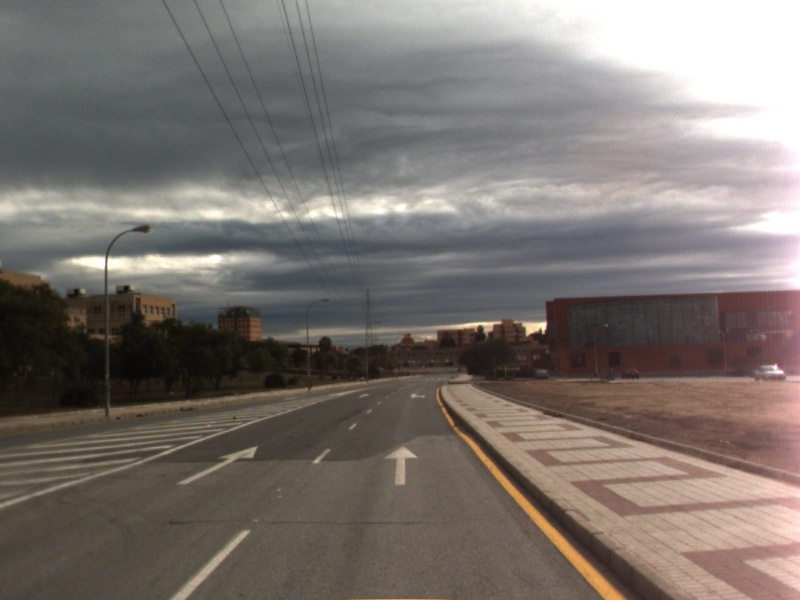STRAIGHT: (174, 444, 260, 487), (382, 444, 421, 487)
